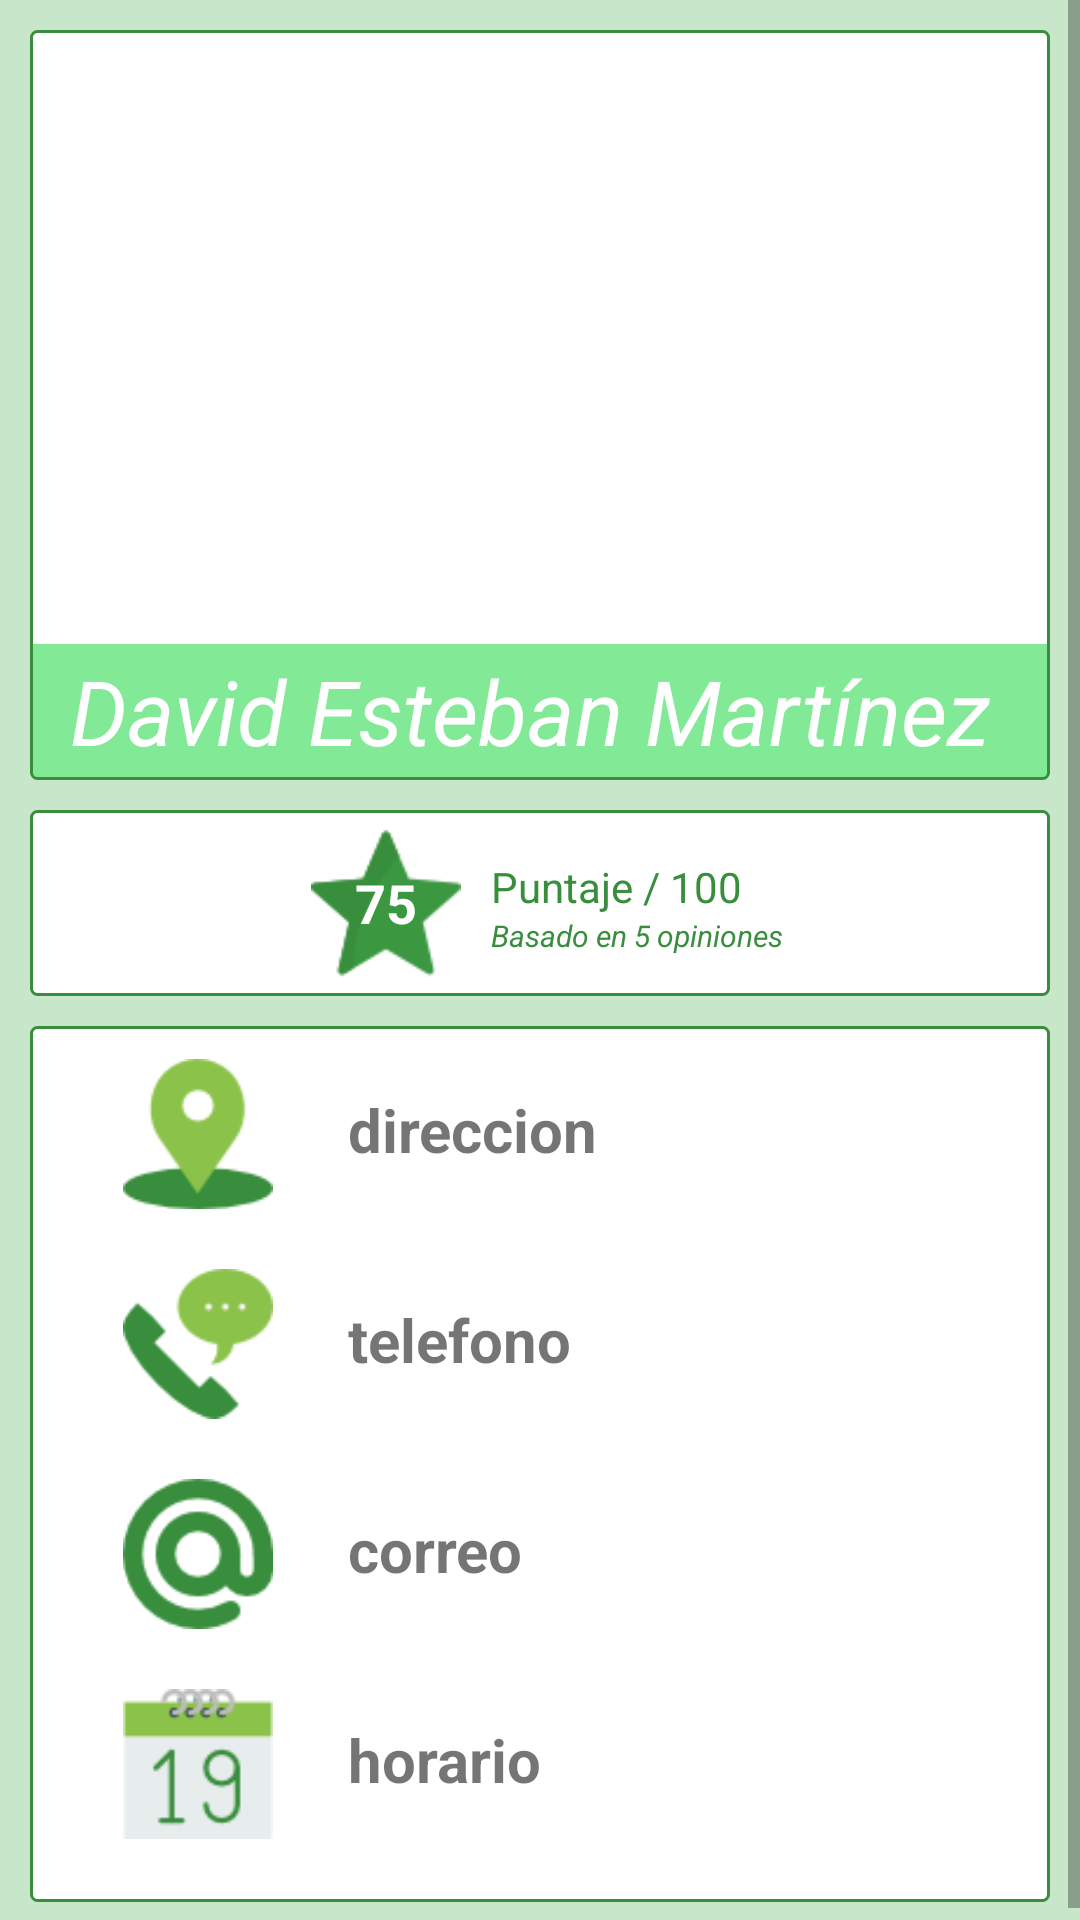

Where icons sit on this 1080w x 1920h app screen, as {"x1": x1, "y1": y1, "x2": x2, "y2": y2}:
star: {"x1": 311, "y1": 830, "x2": 461, "y2": 976}
